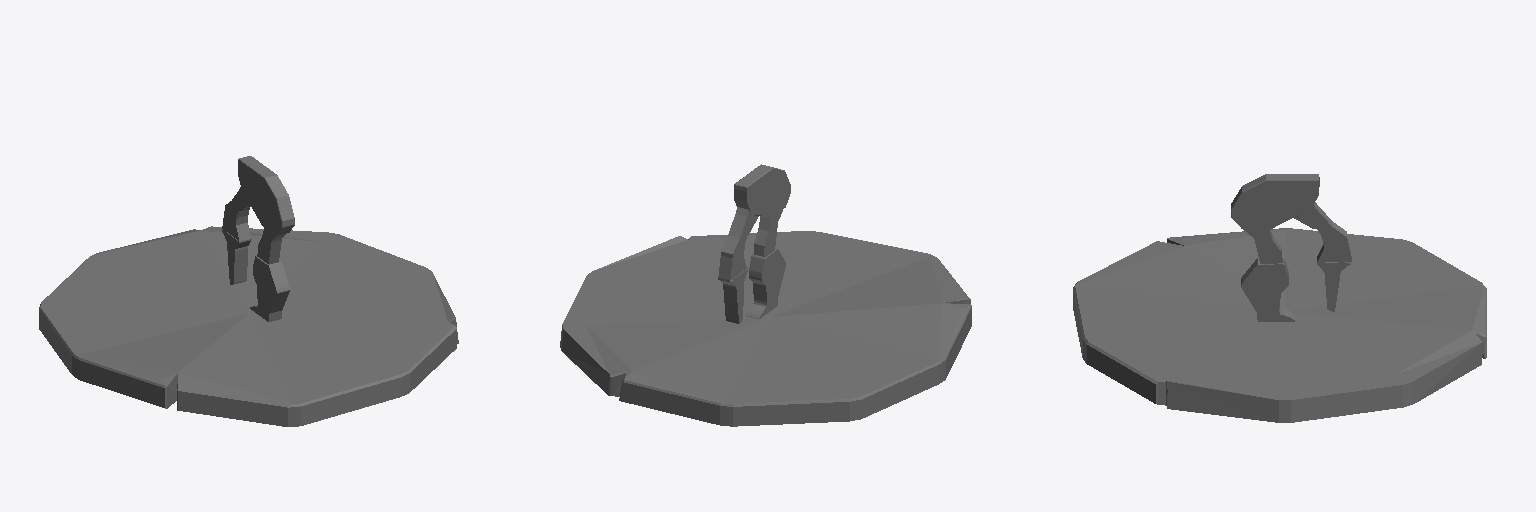
The model's file is legs_doll.obj.
3 views of the same model, side by side, from view 1: azimuth 30°, elevation 25°; view 2: azimuth 150°, elevation 25°; view 3: azimuth 270°, elevation 25° (orthographic).
Visible parts, largest first — view 1: Roue_2_Mesh.002; view 2: Roue_2_Mesh.002; view 3: Roue_2_Mesh.002.
Boxes of the visible parts, <box> form: Roue_2_Mesh.002: <box>39,156,458,426</box>; Roue_2_Mesh.002: <box>560,164,971,426</box>; Roue_2_Mesh.002: <box>1073,174,1486,422</box>.
Bounding box in the file's own units: 6.06 × 2.71 × 6.12.